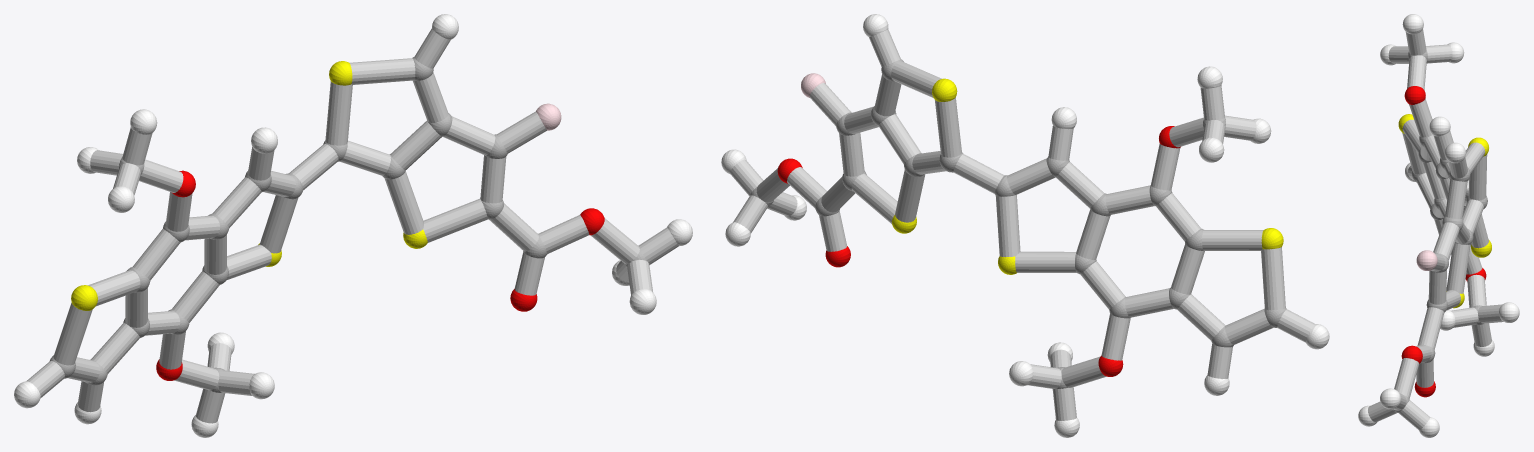
The model's file is Dimethoxy_Benzodithiophene_Phi_25_Theta_330_Methylcarbonyl_3_Fluoro_Thienothiophene.glb.
3 renders of one model, left to right at view 1: azimuth 30°, elevation 25°; view 2: azimuth 150°, elevation 25°; view 3: azimuth 270°, elevation 25°, orthographic. The views are drawn at different scales.
Parts seen in each view (by area): view 1: grp15205, grp8689, grp1, grp13395, grp7241; view 2: grp15205, grp8689, grp1, grp7241, grp13395; view 3: grp15205, grp8689, grp1, grp13395, grp7241, grp14843.
Part boxes in pixels (box(x1,y1,x2,y2)): grp15205: box(26, 28, 678, 423); grp8689: box(14, 14, 692, 437); grp1: box(49, 57, 649, 392); grp13395: box(156, 170, 604, 380); grp7241: box(71, 61, 427, 310); grp15205: box(730, 29, 1314, 420); grp8689: box(721, 14, 1329, 437); grp1: box(750, 59, 1286, 388); grp7241: box(891, 78, 1283, 274); grp13395: box(777, 126, 1180, 376); grp15205: box(1368, 29, 1503, 430); grp8689: box(1358, 14, 1519, 437); grp1: box(1392, 50, 1487, 412); grp13395: box(1401, 86, 1486, 397); grp7241: box(1398, 114, 1491, 308); grp14843: box(1416, 250, 1437, 270).
Bounding box in the file's own units: 16.84 × 9.41 × 4.58.
